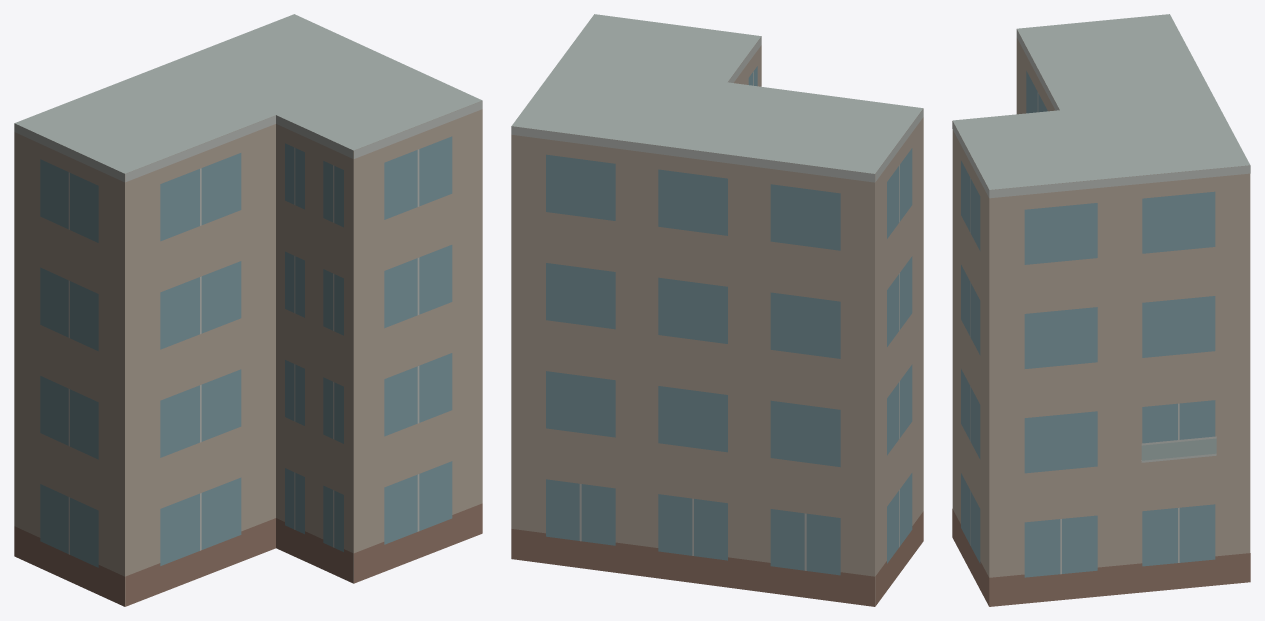
File: residential-9d31e89d-b704-48f9-b24c-2d01c00ea029.glb
3 views of the same model, side by side, from view 1: azimuth 30°, elevation 25°; view 2: azimuth 150°, elevation 25°; view 3: azimuth 270°, elevation 25° (orthographic). The views are drawn at different scales.
Parts seen in each view (by area): view 1: residential-9d31e89d-b704-48f9-b24c-2d01c00ea029.tmp; view 2: residential-9d31e89d-b704-48f9-b24c-2d01c00ea029.tmp; view 3: residential-9d31e89d-b704-48f9-b24c-2d01c00ea029.tmp.
Boxes of the visible parts, box(x1,y1,x2,y2) form: residential-9d31e89d-b704-48f9-b24c-2d01c00ea029.tmp: box(14, 14, 482, 606); residential-9d31e89d-b704-48f9-b24c-2d01c00ea029.tmp: box(511, 14, 923, 606); residential-9d31e89d-b704-48f9-b24c-2d01c00ea029.tmp: box(952, 14, 1250, 606).
Size of the model in its own units: 11.05 by 12.2 by 7.92.
